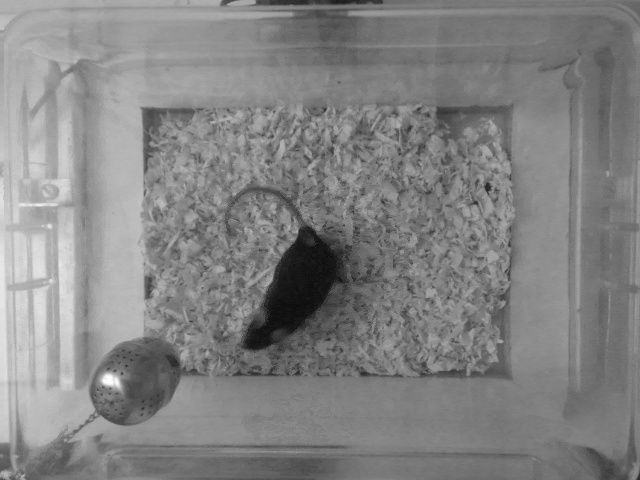mice: (223, 173, 340, 356)
